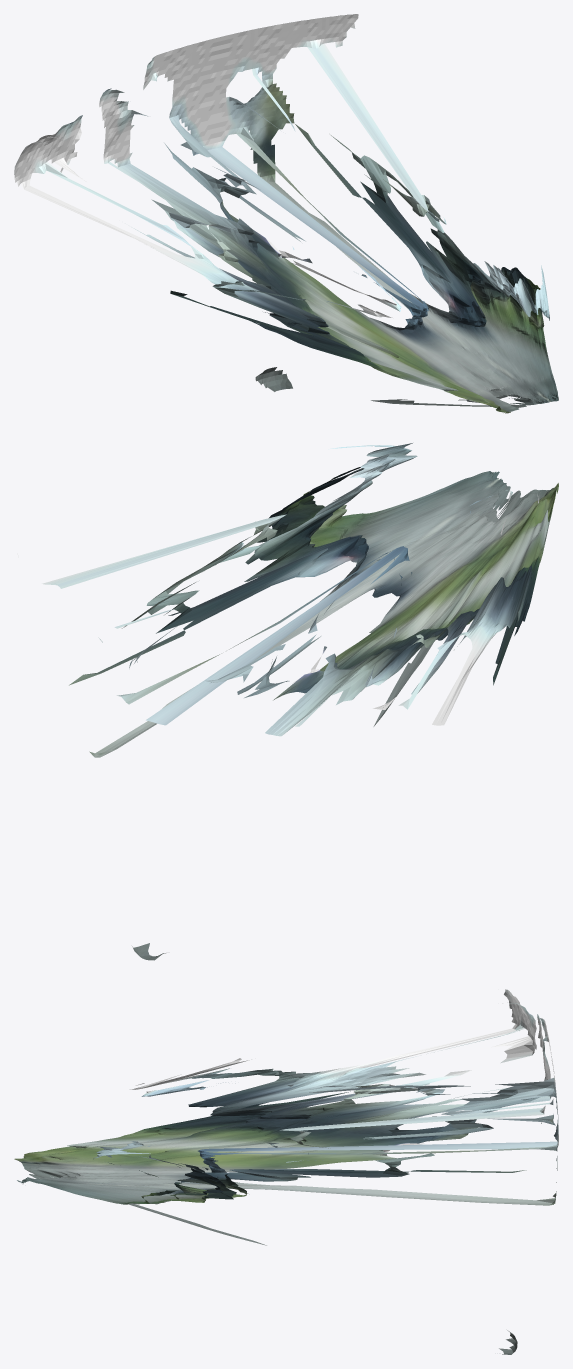
3 views of the same model, one above another, from view 1: azimuth 30°, elevation 25°; view 2: azimuth 150°, elevation 25°; view 3: azimuth 270°, elevation 25° (orthographic). The views are drawn at different scales.
Visible parts, largest first — view 1: defaultobject; view 2: defaultobject; view 3: defaultobject.
Boxes of the visible parts, x1=… form: defaultobject: x1=14, y1=14, x2=558, y2=413; defaultobject: x1=42, y1=443, x2=558, y2=960; defaultobject: x1=14, y1=989, x2=558, y2=1354.
Bounding box in the file's own units: 29.44 × 26.8 × 45.25.
Materials: 1 (1 with a texture image).
